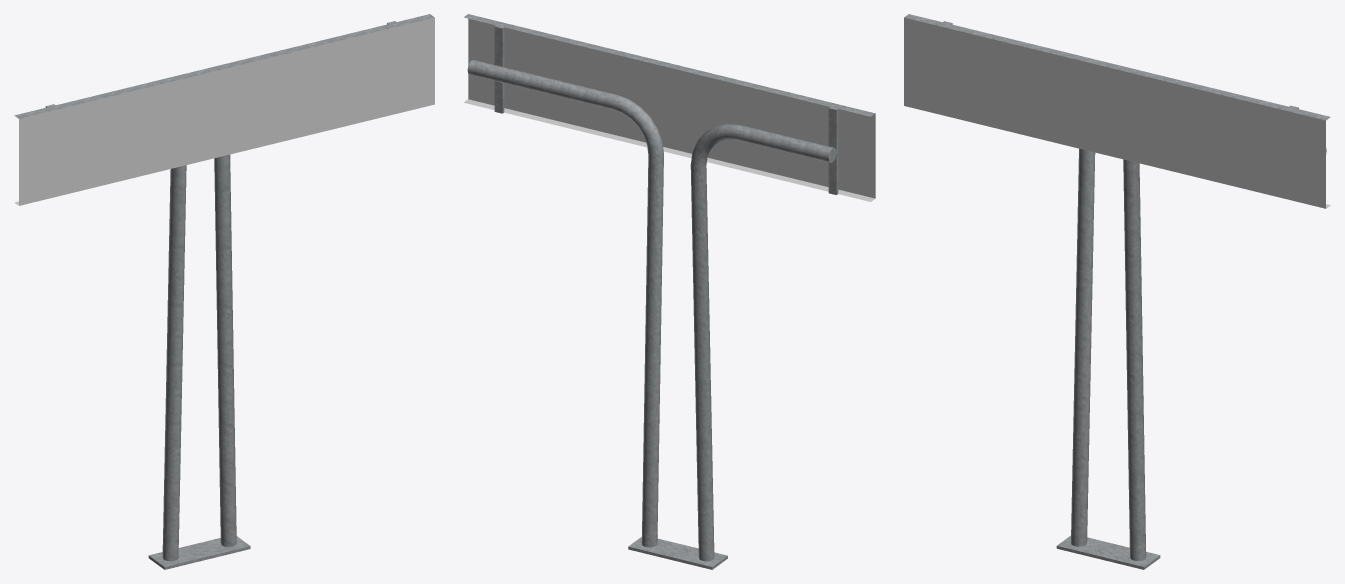
Rendered from sign_board.fbx.
3 views of the same model, side by side, from view 1: azimuth 30°, elevation 25°; view 2: azimuth 150°, elevation 25°; view 3: azimuth 330°, elevation 25° (orthographic). The views are drawn at different scales.
Parts seen in each view (by area): view 1: 19207062-a1a7-4234-98fc-ec0d60d36c20.001; view 2: 19207062-a1a7-4234-98fc-ec0d60d36c20.001; view 3: 19207062-a1a7-4234-98fc-ec0d60d36c20.001.
Boxes of the visible parts, bbox=[...] form: 19207062-a1a7-4234-98fc-ec0d60d36c20.001: bbox=[14, 14, 434, 569]; 19207062-a1a7-4234-98fc-ec0d60d36c20.001: bbox=[464, 14, 875, 569]; 19207062-a1a7-4234-98fc-ec0d60d36c20.001: bbox=[904, 14, 1330, 569].
Size of the model in its own units: 150 by 168 by 11.5.
2 materials, 1 textured.
